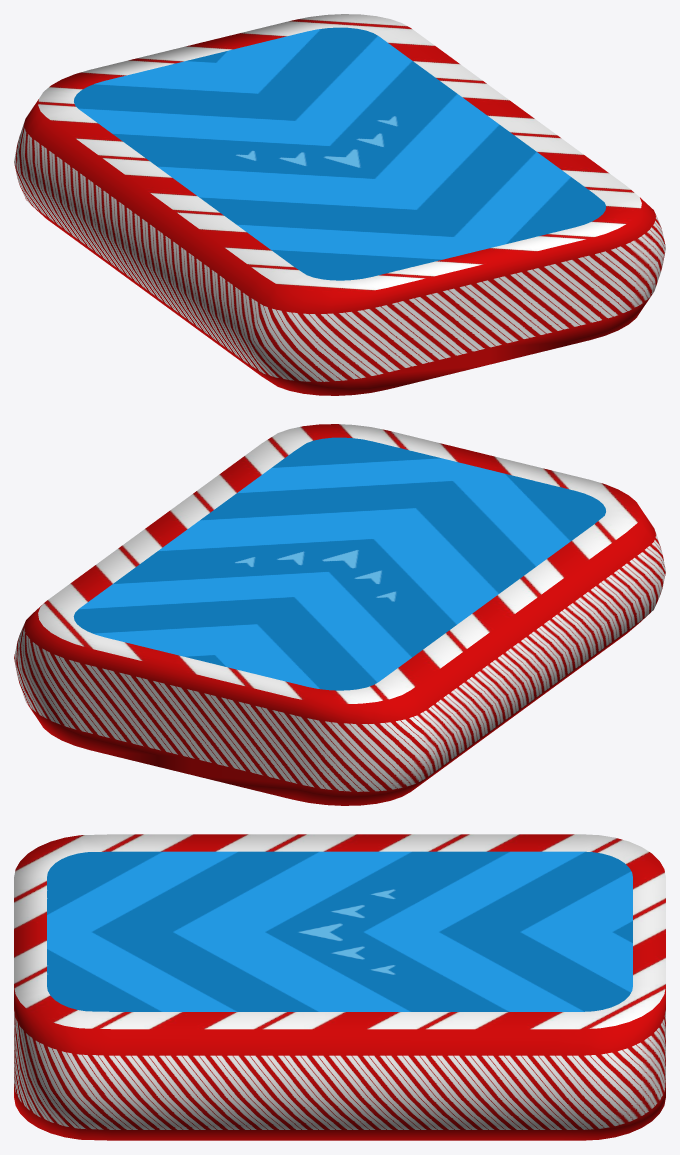
Rendered from move_block (3).fbx.
3 views of the same model, one above another, from view 1: azimuth 30°, elevation 25°; view 2: azimuth 150°, elevation 25°; view 3: azimuth 270°, elevation 25° (orthographic). The views are drawn at different scales.
Visible parts, largest first — view 1: TerrainEdge_1_1; view 2: TerrainEdge_1_1; view 3: TerrainEdge_1_1.
Part boxes in pixels (x1=…): TerrainEdge_1_1: x1=14, y1=14, x2=665, y2=395; TerrainEdge_1_1: x1=14, y1=424, x2=665, y2=805; TerrainEdge_1_1: x1=14, y1=834, x2=665, y2=1140.
Size of the model in its own units: 512 by 120 by 636.
4 materials, 3 textured.
